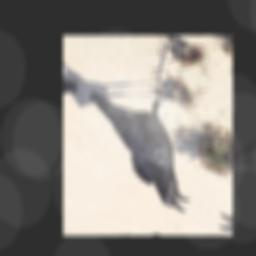Crow: (71, 44, 216, 215)
